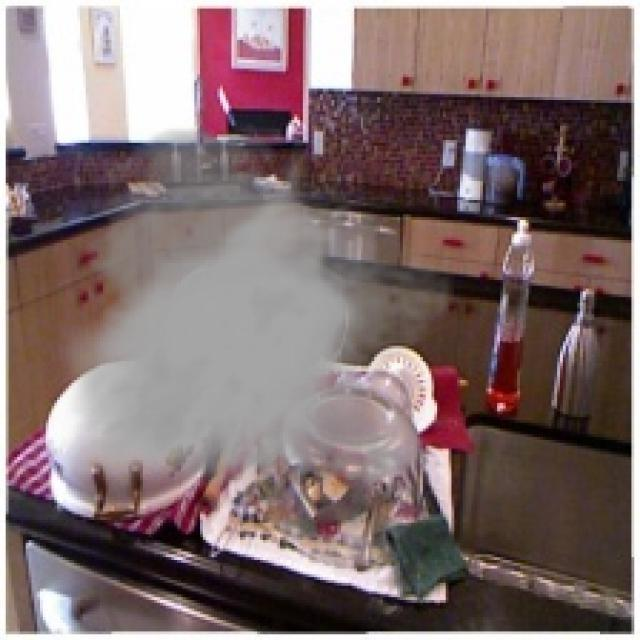Smoke: (52, 122, 454, 498)
